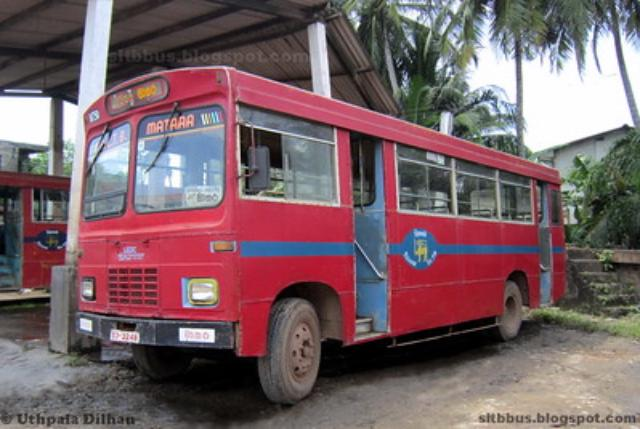bus: (71, 64, 569, 406)
